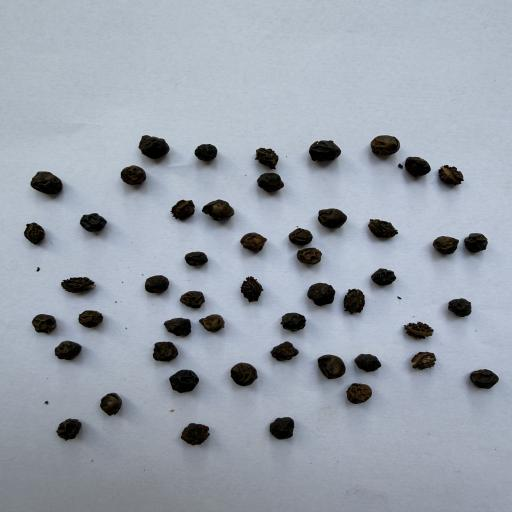Black_pepper: (10, 164, 81, 203), (256, 415, 306, 451), (460, 359, 503, 399), (164, 422, 220, 451), (139, 336, 192, 366), (126, 130, 178, 160), (18, 302, 60, 339), (66, 300, 114, 332), (160, 370, 204, 403), (47, 409, 91, 442), (274, 305, 318, 338), (305, 138, 349, 170), (225, 356, 264, 392), (177, 248, 233, 273), (289, 247, 337, 272), (49, 336, 85, 368), (135, 270, 176, 297), (369, 129, 402, 162), (462, 230, 499, 259), (190, 138, 228, 166), (114, 163, 158, 187), (300, 278, 337, 306), (402, 153, 436, 183), (244, 173, 292, 194), (202, 196, 242, 221), (156, 312, 197, 336), (315, 350, 346, 381), (178, 286, 218, 310), (426, 232, 460, 260), (442, 297, 481, 321), (76, 206, 110, 233), (317, 204, 351, 231), (349, 350, 385, 375), (101, 386, 125, 422), (241, 227, 271, 254), (270, 340, 303, 364), (287, 225, 320, 248), (198, 311, 234, 332), (346, 381, 376, 405), (371, 266, 400, 290)
papaya_seed: (162, 190, 202, 226), (244, 142, 292, 170), (17, 217, 53, 252), (391, 348, 441, 372), (364, 214, 402, 244), (56, 274, 102, 296), (399, 313, 436, 340), (342, 283, 368, 314), (440, 162, 466, 191), (239, 272, 264, 302)
